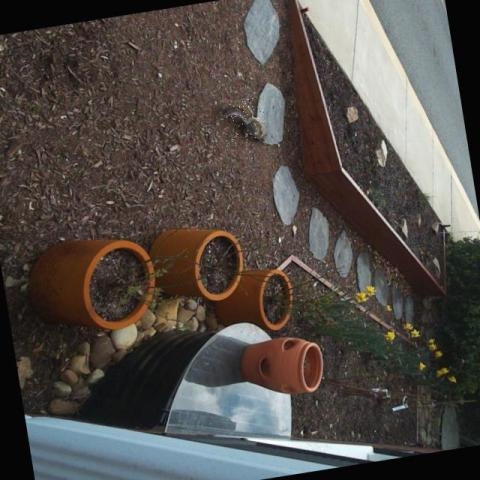small_animal: (215, 99, 269, 142)
